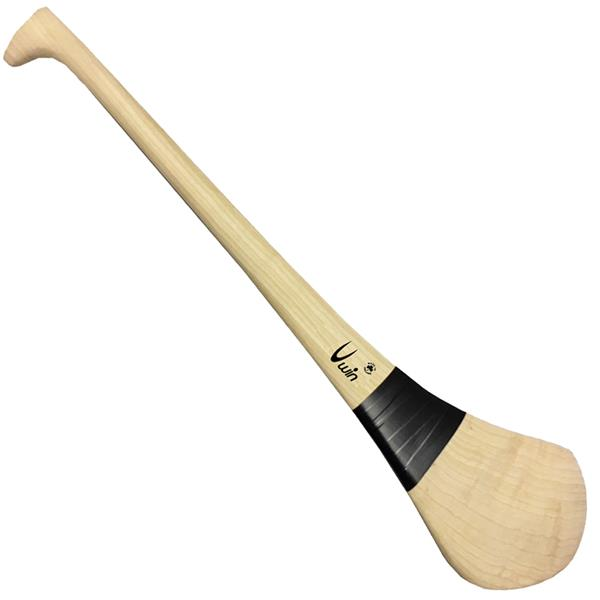hurley: (2, 5, 587, 591)
